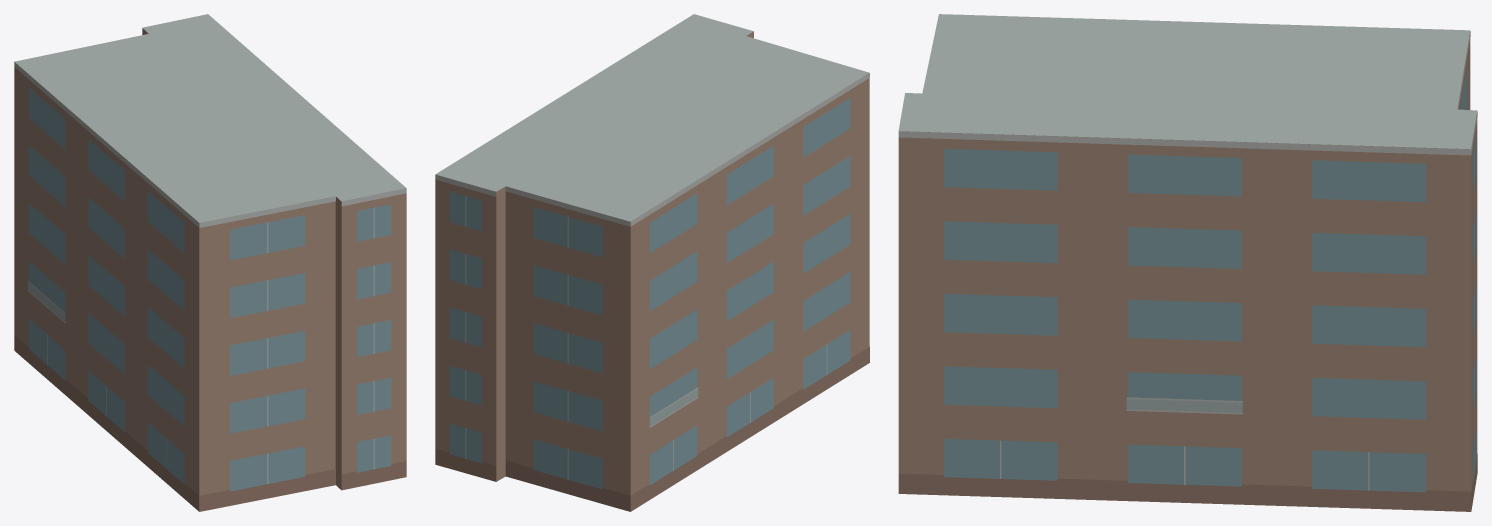
The model's file is survey-upis-32931023.glb.
3 views of the same model, side by side, from view 1: azimuth 30°, elevation 25°; view 2: azimuth 150°, elevation 25°; view 3: azimuth 270°, elevation 25° (orthographic). The views are drawn at different scales.
Visible parts, largest first — view 1: survey-upis-32931023.tmp; view 2: survey-upis-32931023.tmp; view 3: survey-upis-32931023.tmp.
Part boxes in pixels (x1,y1,x2,y2): survey-upis-32931023.tmp: (14,14,406,511); survey-upis-32931023.tmp: (435,14,869,511); survey-upis-32931023.tmp: (898,14,1477,511).
Size of the model in its own units: 11.2 by 14 by 20.27.
